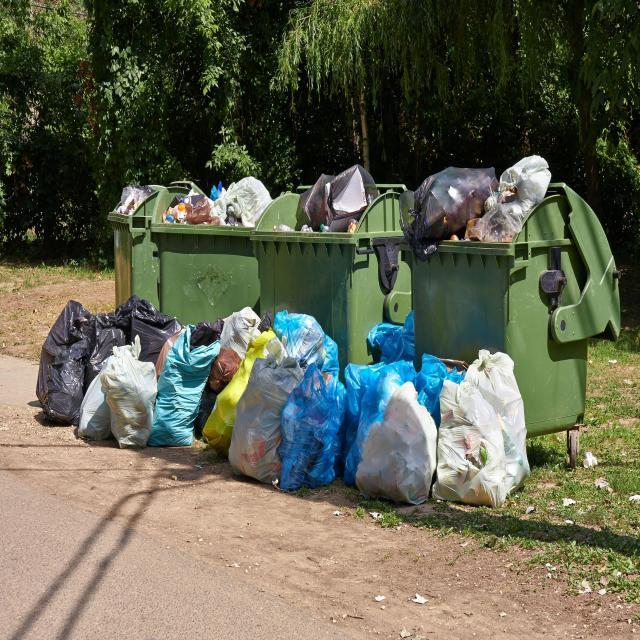garbage: (21, 157, 614, 509)
